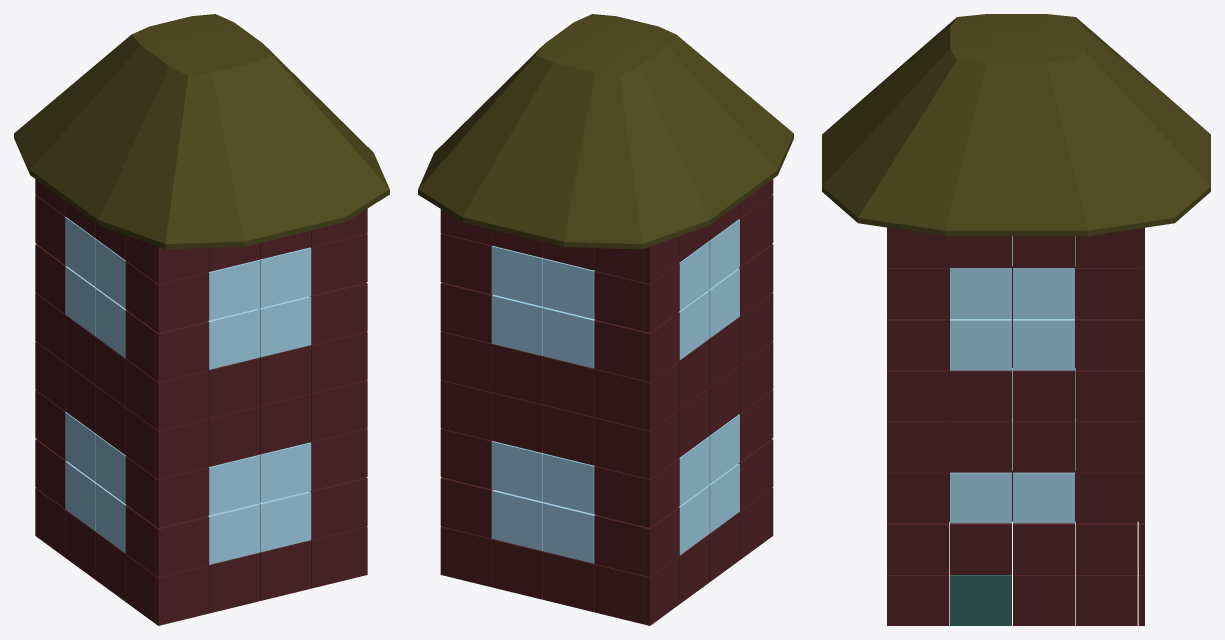
The model's file is house04.fbx.
3 renders of one model, left to right at view 1: azimuth 30°, elevation 25°; view 2: azimuth 150°, elevation 25°; view 3: azimuth 270°, elevation 25°, orthographic. The views are drawn at different scales.
Visible parts, largest first — view 1: Cube.065; view 2: Cube.065; view 3: Cube.065.
Part boxes in pixels (<box>): Cube.065: <box>14,14,389,625</box>; Cube.065: <box>418,14,793,625</box>; Cube.065: <box>822,14,1210,625</box>.
Size of the model in its own units: 500 by 888 by 583.
